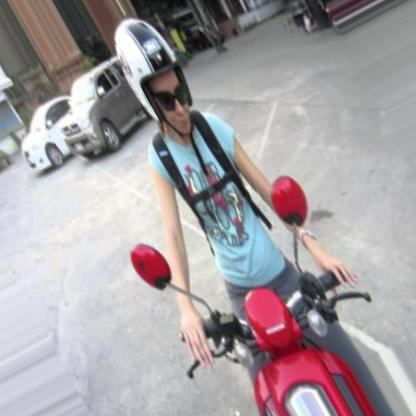with helmet: (113, 16, 195, 137)
